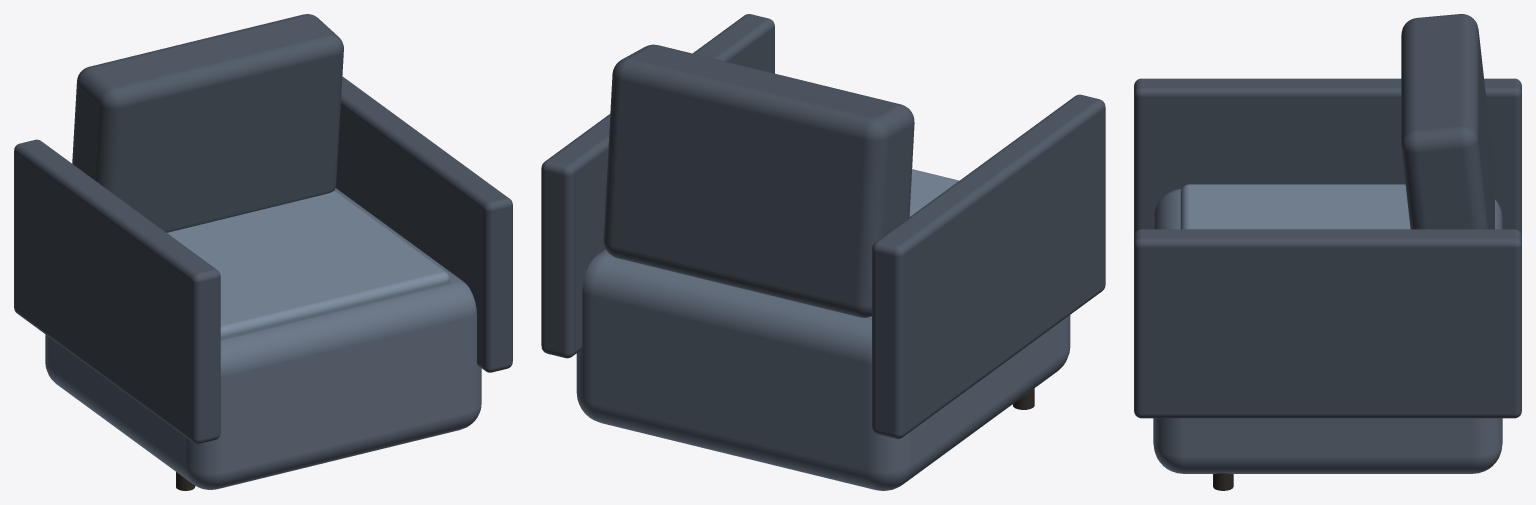
3 renders of one model, left to right at view 1: azimuth 30°, elevation 25°; view 2: azimuth 150°, elevation 25°; view 3: azimuth 270°, elevation 25°, orthographic. The views are drawn at different scales.
Visible parts, largest first — view 1: seat-base, back-cushion-1, arm-left, seat-cushion-1, arm-right; view 2: back-cushion-1, seat-base, arm-left, arm-right, seat-cushion-1; view 3: arm-right, arm-left, seat-base, back-cushion-1, seat-cushion-1.
Boxes of the visible parts, <box> form: seat-base: <box>45,188,481,489</box>; back-cushion-1: <box>72,14,343,232</box>; arm-left: <box>14,139,220,443</box>; seat-cushion-1: <box>167,190,449,340</box>; arm-right: <box>335,76,512,372</box>; back-cushion-1: <box>603,44,914,317</box>; seat-base: <box>576,249,1070,490</box>; arm-left: <box>872,94,1105,438</box>; arm-right: <box>541,14,774,358</box>; seat-cushion-1: <box>909,169,958,216</box>; arm-right: <box>1134,229,1521,418</box>; arm-left: <box>1134,78,1521,235</box>; seat-base: <box>1153,189,1502,473</box>; back-cushion-1: <box>1401,14,1494,229</box>; seat-cushion-1: <box>1180,184,1410,229</box>.
Bounding box in the file's own units: 0.9064 × 0.8963 × 0.9.
